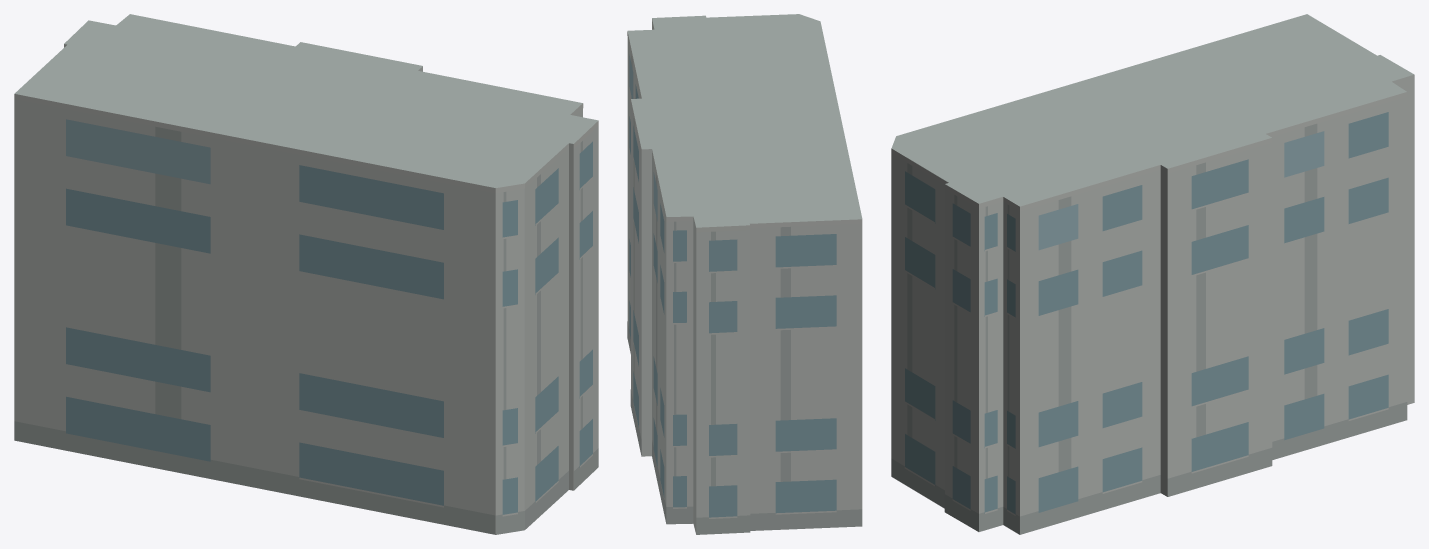
The model's file is survey-upis-32630628.glb.
The picture shows the model from 3 angles, left to right: view 1: azimuth 30°, elevation 25°; view 2: azimuth 150°, elevation 25°; view 3: azimuth 270°, elevation 25°; orthographic projection. The views are drawn at different scales.
Visible parts, largest first — view 1: survey-upis-32630628.tmp; view 2: survey-upis-32630628.tmp; view 3: survey-upis-32630628.tmp.
Part boxes in pixels (x1,y1,x2,y2): survey-upis-32630628.tmp: (14,14,598,534); survey-upis-32630628.tmp: (627,14,862,534); survey-upis-32630628.tmp: (891,14,1414,534).
Bounding box in the file's own units: 20.28 × 16.11 × 23.27.
